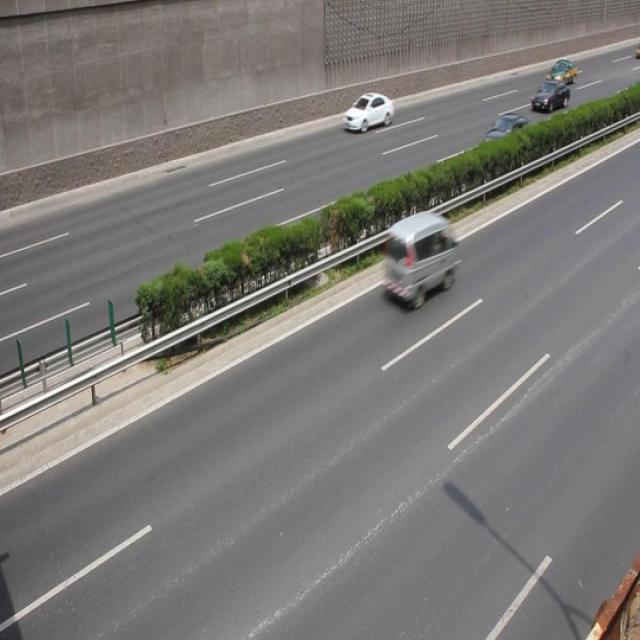car: (481, 111, 532, 160), (342, 94, 393, 132), (529, 80, 569, 111), (544, 57, 576, 88)
truck: (381, 209, 458, 308)
